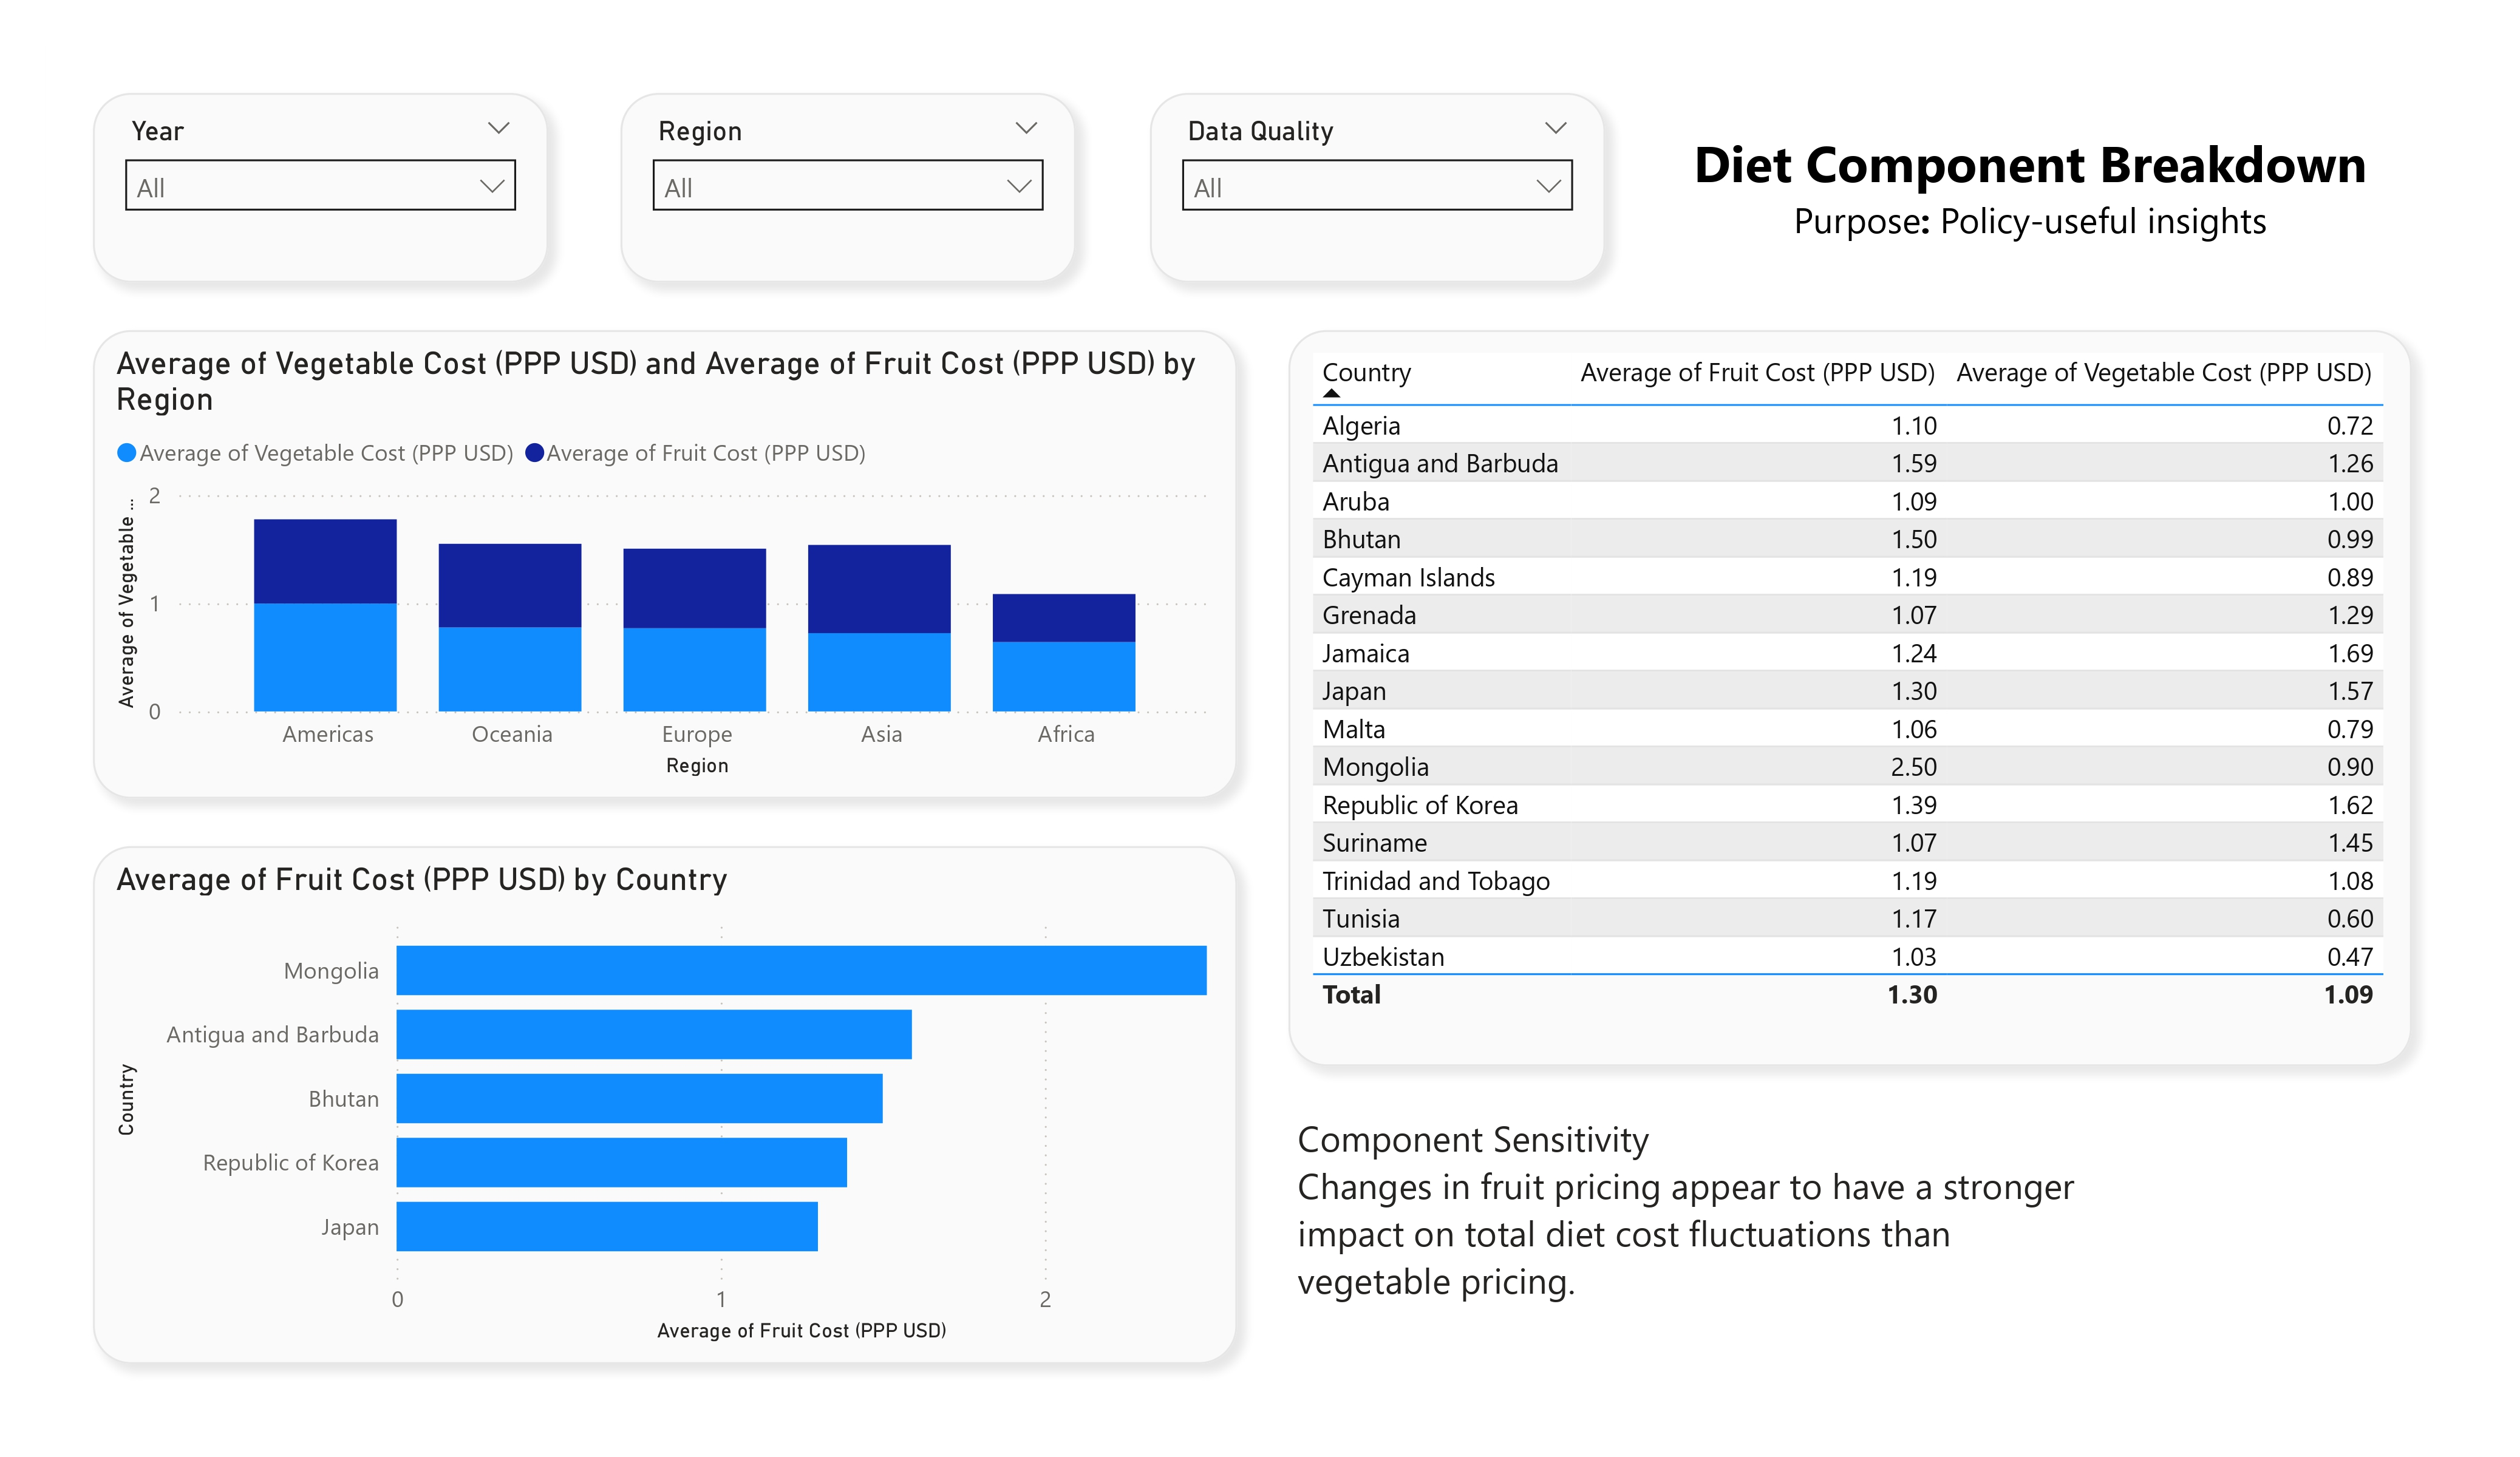

This screenshot's page, from the dashboard's own definition file:
{"tool":"powerbi","page":{"name":"Diet Component Breakdown","canvas":[1280,720],"ordinal":3},"visuals":[{"type":"tableEx","fields":{"Values":["price_of_healthy_diet_corrected.Country","Avg(price_of_healthy_diet_corrected.Fruit Cost (PPP USD))","Avg(price_of_healthy_diet_corrected.Vegetable Cost (PPP USD))"]},"box":[655,150,591.7,388.3],"z":0},{"type":"columnChart","fields":{"Category":["price_of_healthy_diet_corrected.Region"],"Y":["Avg(price_of_healthy_diet_corrected.Vegetable Cost (PPP USD))","Avg(price_of_healthy_diet_corrected.Fruit Cost (PPP USD))"]},"box":[25,150,603.3,246.7],"z":1000},{"type":"clusteredBarChart","fields":{"Category":["price_of_healthy_diet_corrected.Country"],"Y":["Avg(price_of_healthy_diet_corrected.Fruit Cost (PPP USD))"]},"box":[25,421.7,603.3,273.3],"z":2000},{"type":"slicer","fields":{"Values":["price_of_healthy_diet_corrected.Year"]},"box":[25,25,240,100],"z":3000},{"type":"slicer","fields":{"Values":["price_of_healthy_diet_corrected.Region"]},"box":[303.3,25,240,100],"z":4000},{"type":"slicer","fields":{"Values":["price_of_healthy_diet_corrected.Data Quality"]},"box":[581.7,25,240,100],"z":5000},{"type":"textbox","box":[845,38.3,401.7,71.7],"z":6000},{"type":"textbox","box":[655,558.3,591.7,136.7],"z":6001}]}

Visuals, with their boxes on the page's 1280x720 design canvas (x1, y1, x2, y2). These are canvas units, not pixel positions in the 2520x1457 screenshot, which may show the page scaled, cropped or inside an application window:
tableEx - price_of_healthy_diet_corrected.Country x Avg(price_of_healthy_diet_corrected.Fruit Cost (PPP USD)): (655,150,1247,538)
columnChart - price_of_healthy_diet_corrected.Region x Avg(price_of_healthy_diet_corrected.Vegetable Cost (PPP USD)): (25,150,628,397)
clusteredBarChart - price_of_healthy_diet_corrected.Country x Avg(price_of_healthy_diet_corrected.Fruit Cost (PPP USD)): (25,422,628,695)
slicer - price_of_healthy_diet_corrected.Year: (25,25,265,125)
slicer - price_of_healthy_diet_corrected.Region: (303,25,543,125)
slicer - price_of_healthy_diet_corrected.Data Quality: (582,25,822,125)
textbox: (845,38,1247,110)
textbox: (655,558,1247,695)
